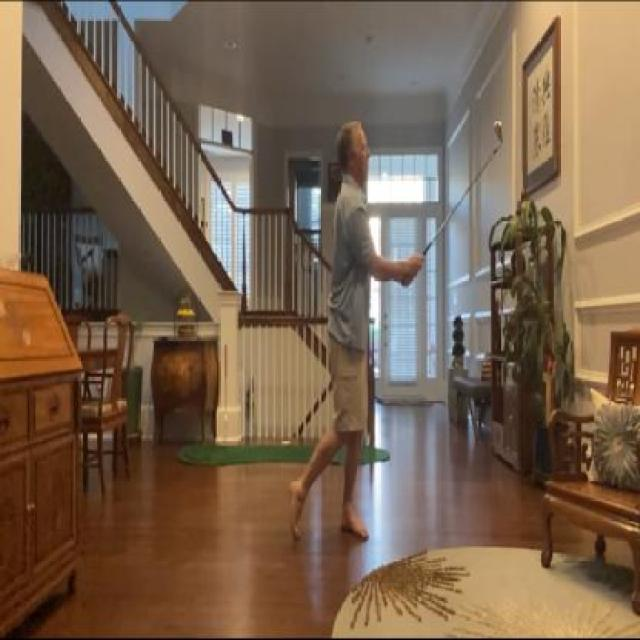club head: (492, 117, 505, 151)
